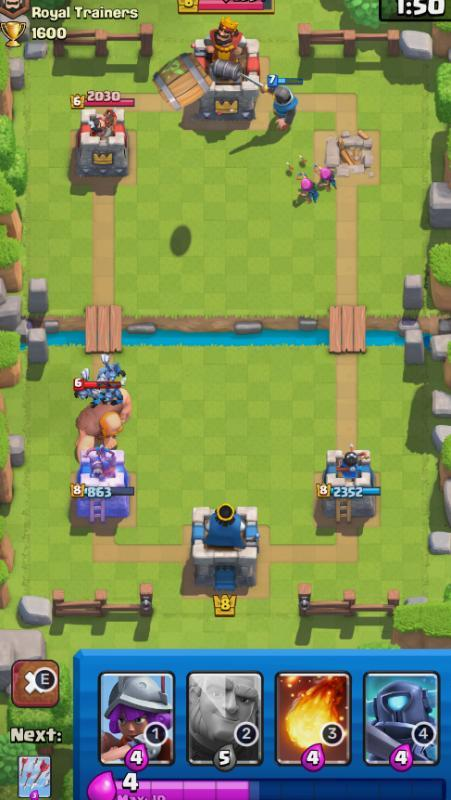enemy_goblin_barrel: (149, 52, 219, 113)
player_archers: (289, 167, 321, 207), (313, 158, 341, 193)
player_giant: (71, 396, 133, 463)
player_knight: (261, 74, 309, 133)
player_minions: (94, 355, 127, 384), (89, 387, 117, 406), (100, 387, 125, 405)
